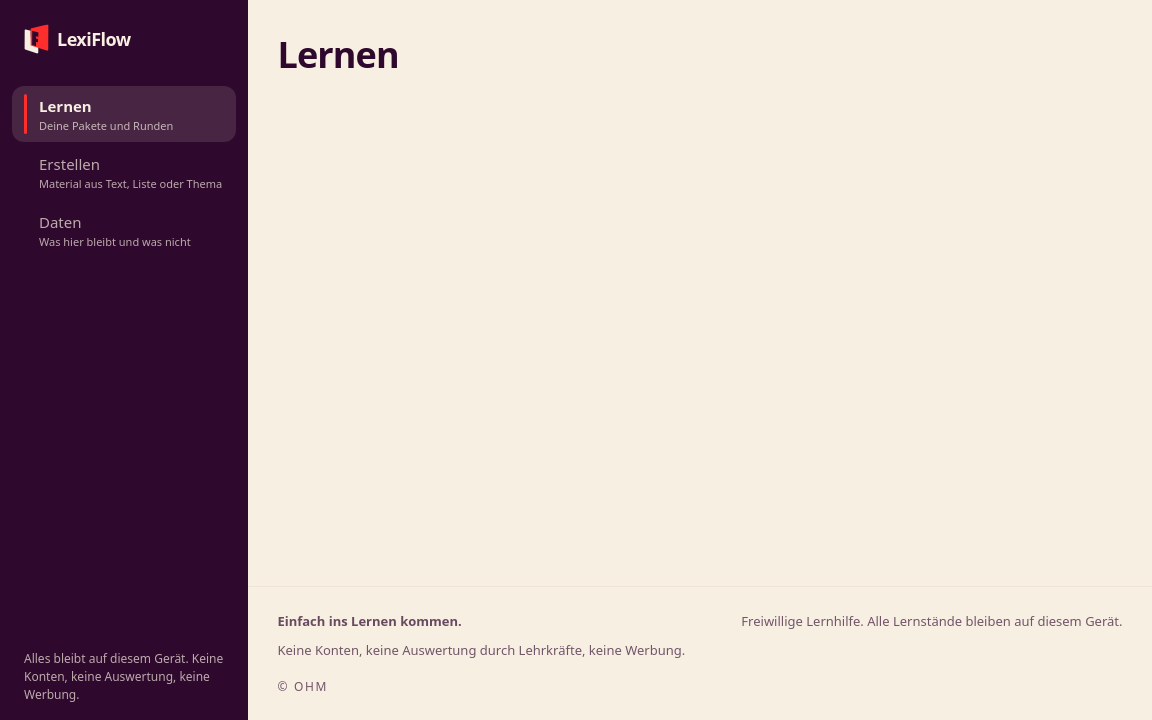
Test: Aktuelle Route › zieht die Markierung beim Wechsel mit
The width and height of the screenshot is (1152, 720).
Click the link "Daten Was hier bleibt und was nicht".
click(60, 222)  # box [39,212,191,249]
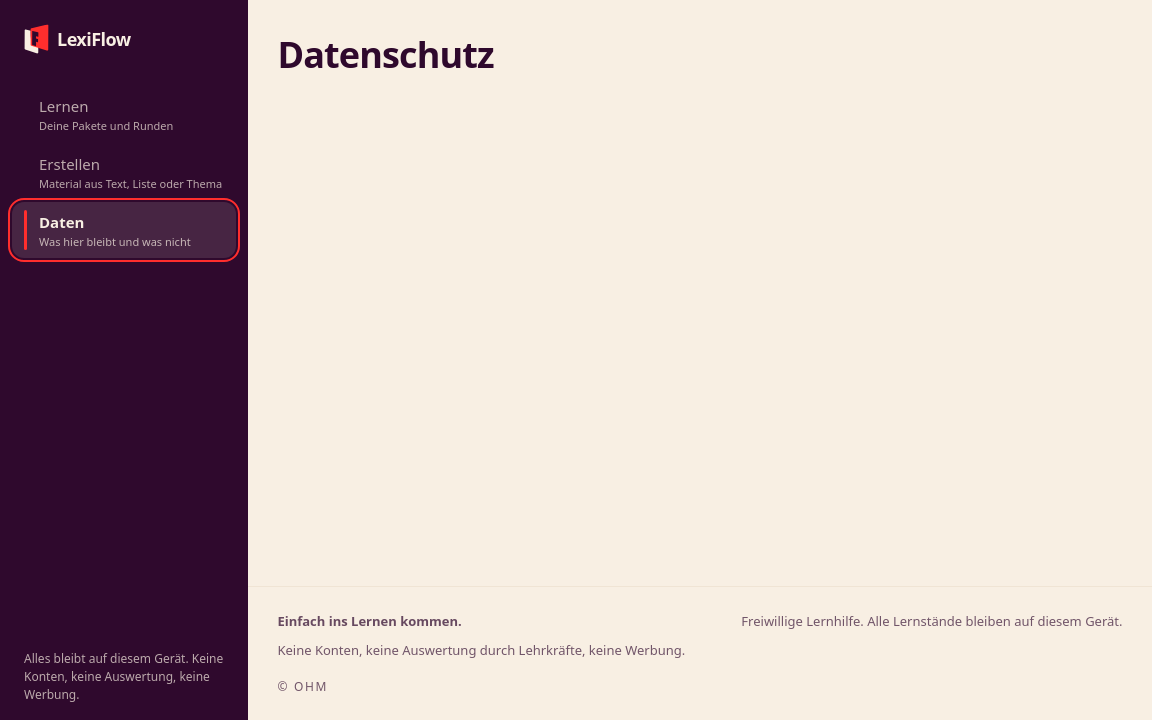
Result: the heading "Datenschutz" is shown at [277,30,494,79]
